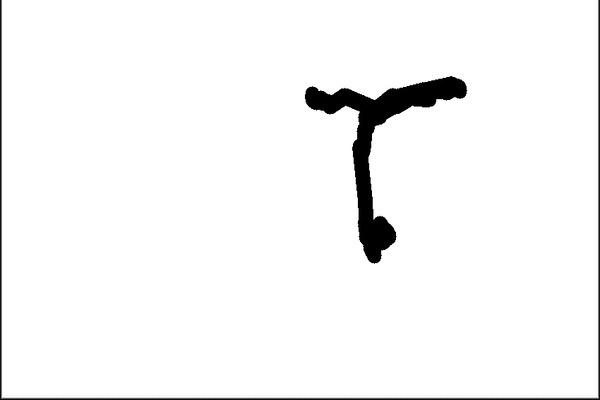T: (285, 61, 473, 266)
